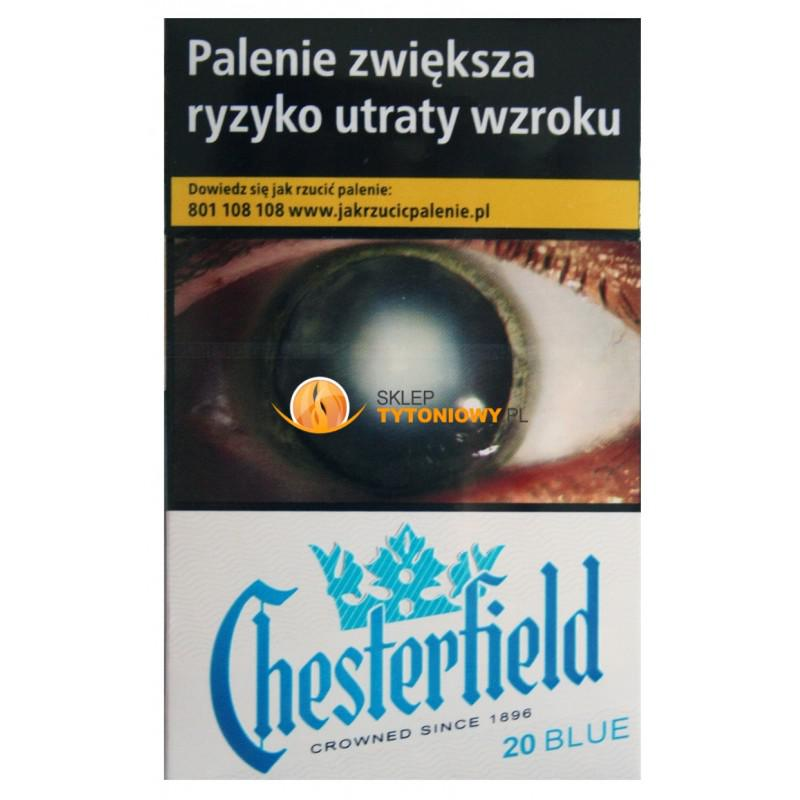chesterfield_blue: (168, 20, 639, 780)
